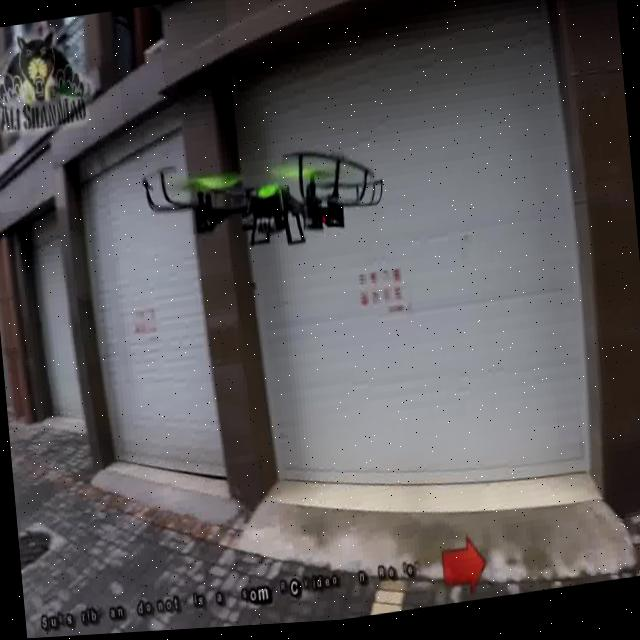drone: (136, 120, 403, 275)
